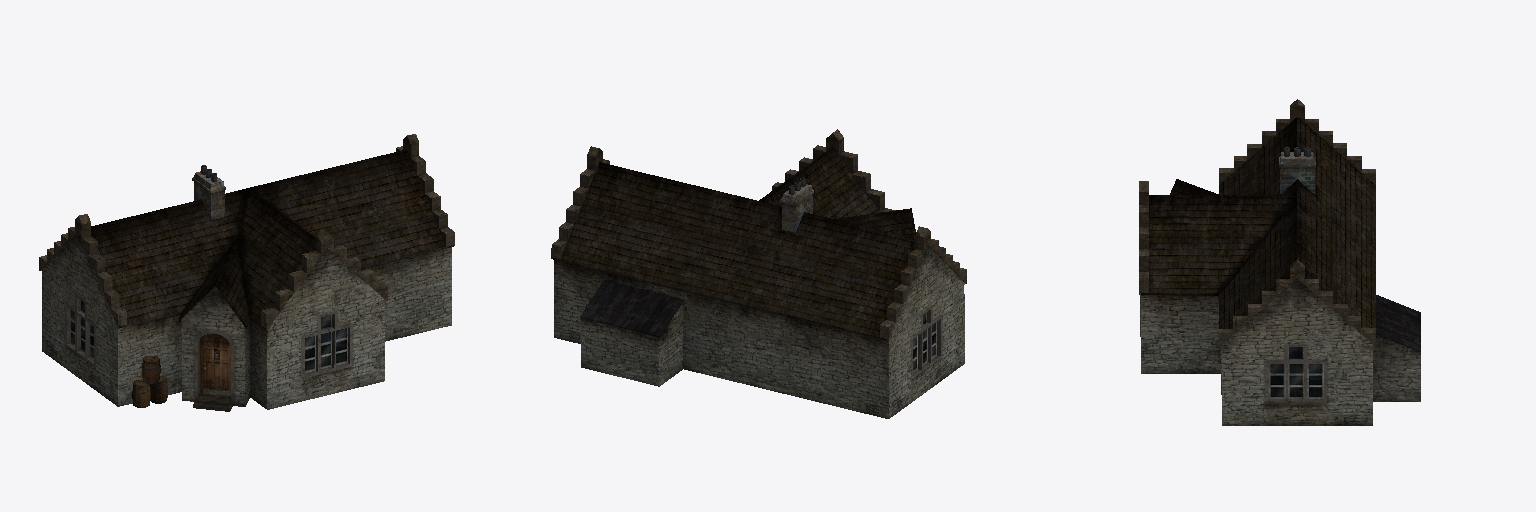
The picture shows the model from 3 angles: view 1: azimuth 30°, elevation 25°; view 2: azimuth 150°, elevation 25°; view 3: azimuth 270°, elevation 25°; orthographic projection.
Size of the model in its own units: 59.38 by 29.91 by 43.06.
1 materials, 1 textured.